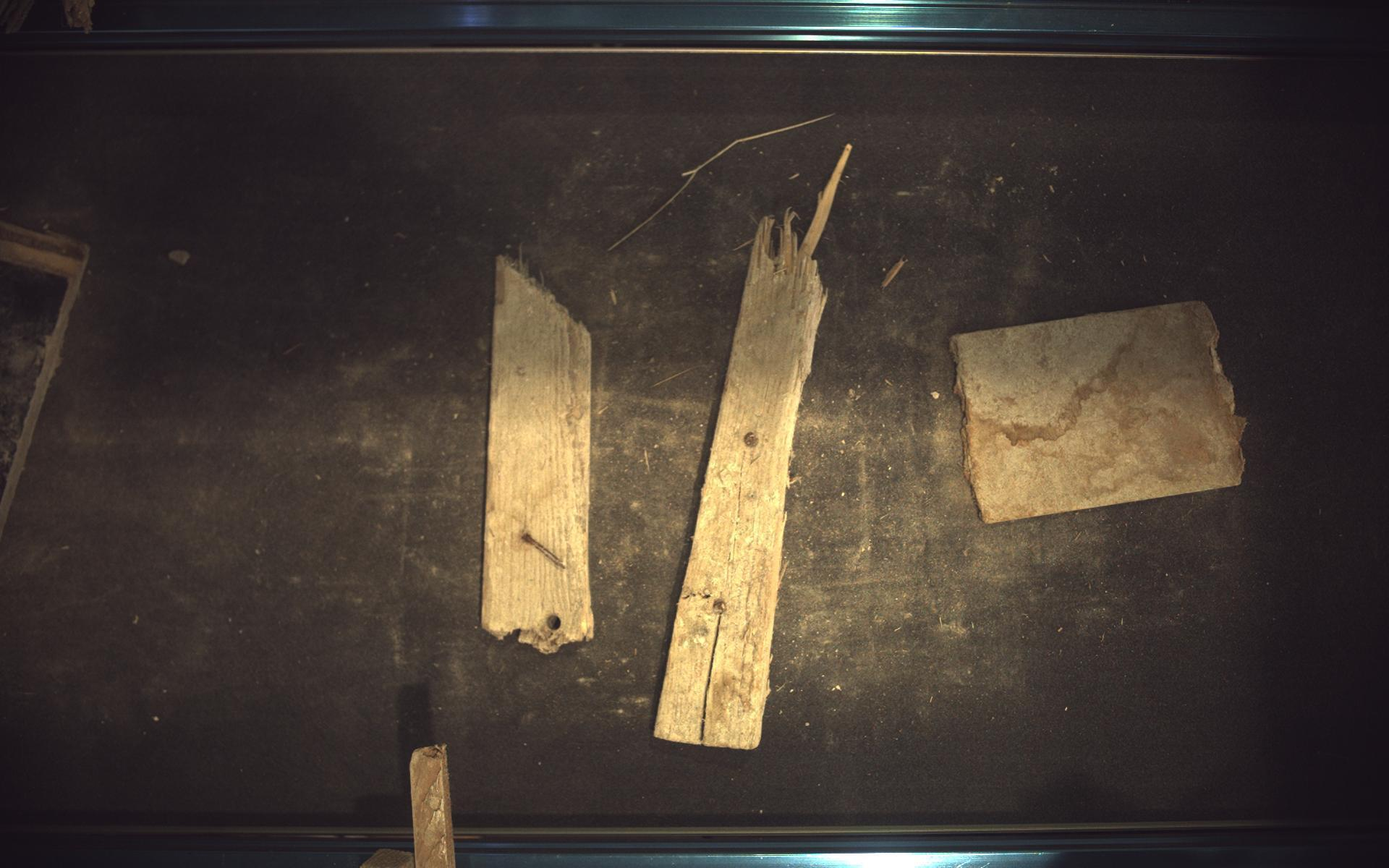wood: (655, 143, 854, 751), (953, 302, 1249, 524), (482, 255, 595, 654)
